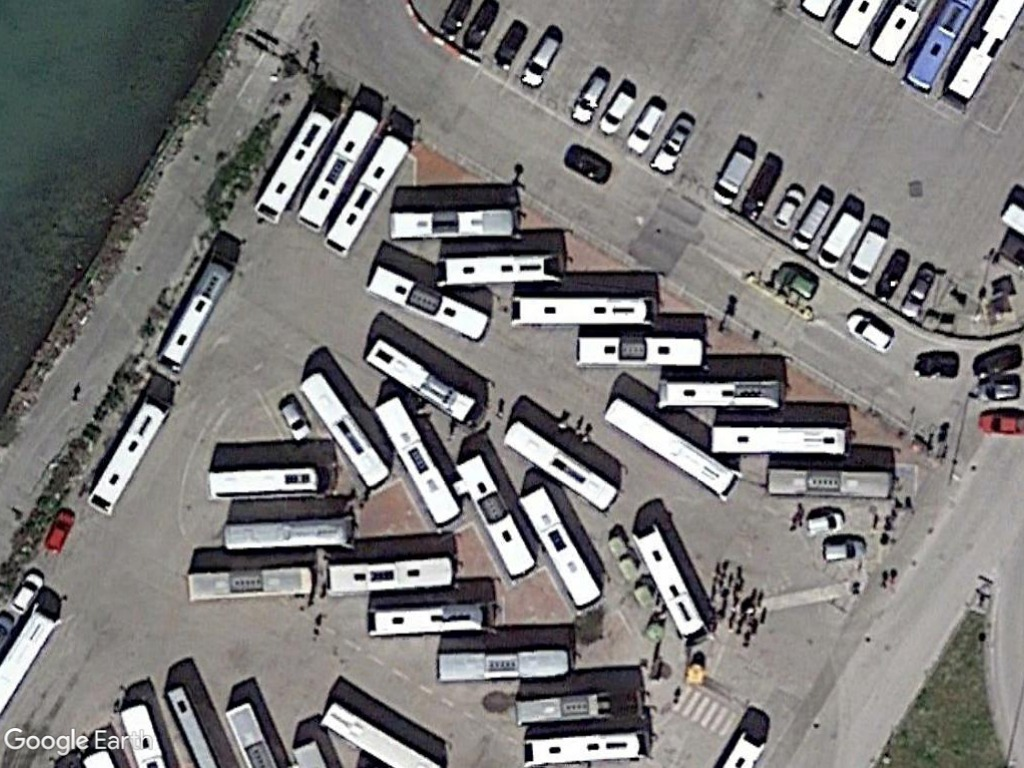bus: (603, 391, 741, 504), (362, 391, 465, 531), (152, 231, 245, 376), (319, 127, 416, 261), (513, 481, 610, 611), (500, 414, 622, 517), (291, 106, 385, 235), (295, 368, 392, 493), (360, 329, 480, 429), (249, 103, 343, 227), (85, 389, 173, 521), (452, 449, 539, 582), (366, 258, 492, 344), (629, 520, 710, 643), (218, 509, 356, 559), (321, 550, 458, 600), (433, 643, 573, 689), (511, 686, 656, 730), (365, 595, 505, 640), (504, 291, 661, 331), (753, 463, 905, 504), (702, 419, 852, 460), (181, 562, 315, 607), (383, 203, 524, 245), (568, 332, 710, 372), (431, 249, 569, 290), (517, 731, 657, 768), (650, 377, 789, 412), (203, 467, 332, 504)
car: (647, 116, 698, 175), (514, 31, 567, 87), (842, 305, 899, 357), (624, 99, 670, 157), (567, 71, 614, 126), (595, 86, 642, 135), (272, 395, 316, 446), (770, 182, 811, 231), (7, 568, 46, 617), (976, 403, 1024, 440), (799, 507, 847, 543), (822, 535, 867, 567)
van: (840, 226, 893, 290), (815, 206, 865, 273), (786, 194, 839, 254), (709, 146, 759, 207)
